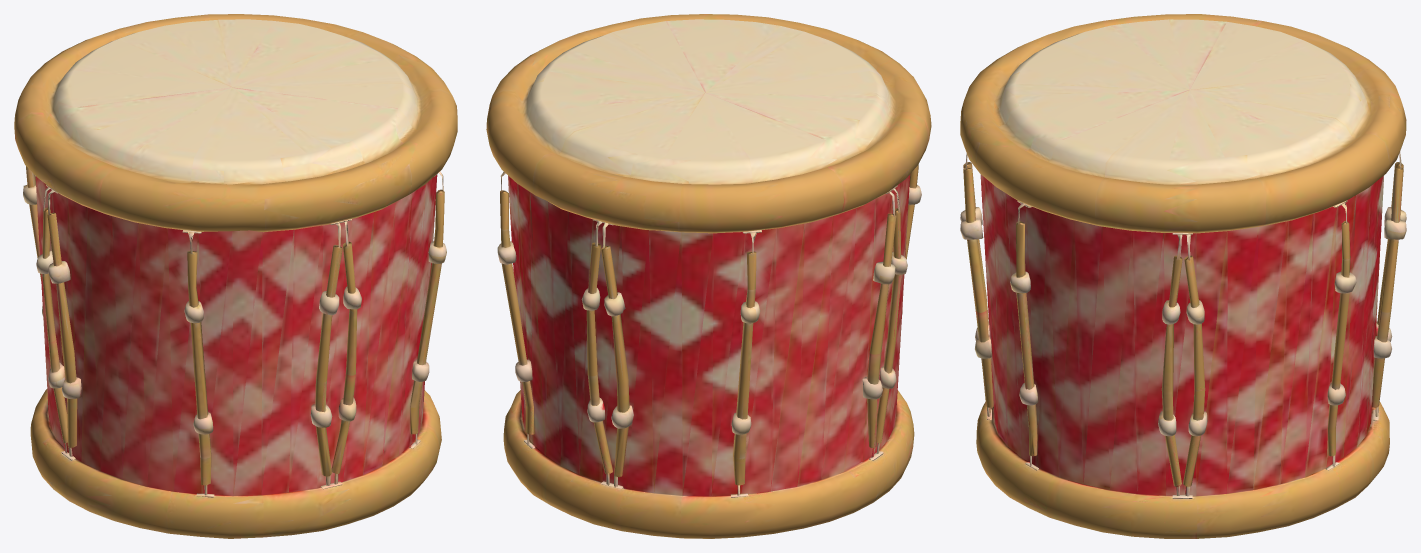
File: p_drum.glb
3 renders of one model, left to right at view 1: azimuth 30°, elevation 25°; view 2: azimuth 150°, elevation 25°; view 3: azimuth 270°, elevation 25°, orthographic.
Bounding box in the file's own units: 0.9429 × 0.8623 × 0.9468.
1 material, 1 textured.
